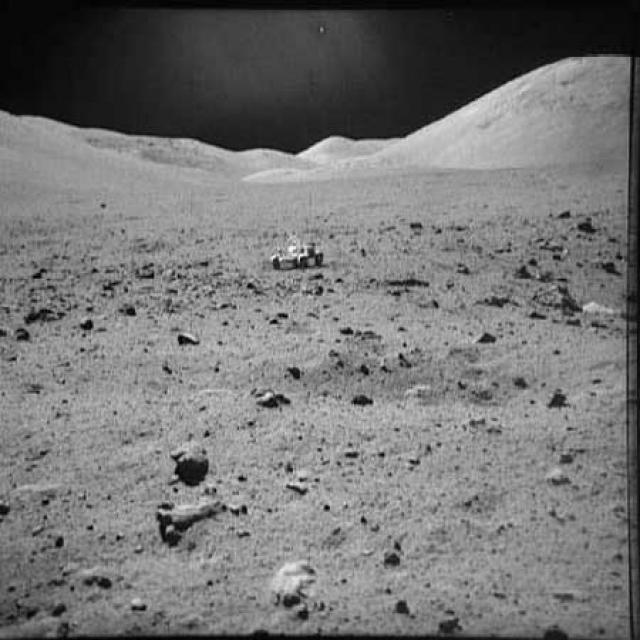artifact: (264, 217, 332, 276)
crater: (250, 328, 633, 424)
rock: (150, 484, 238, 548), (157, 427, 224, 478), (270, 548, 324, 602), (172, 320, 202, 353), (69, 314, 103, 330)
